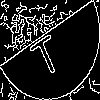T: (25, 25, 65, 81)
